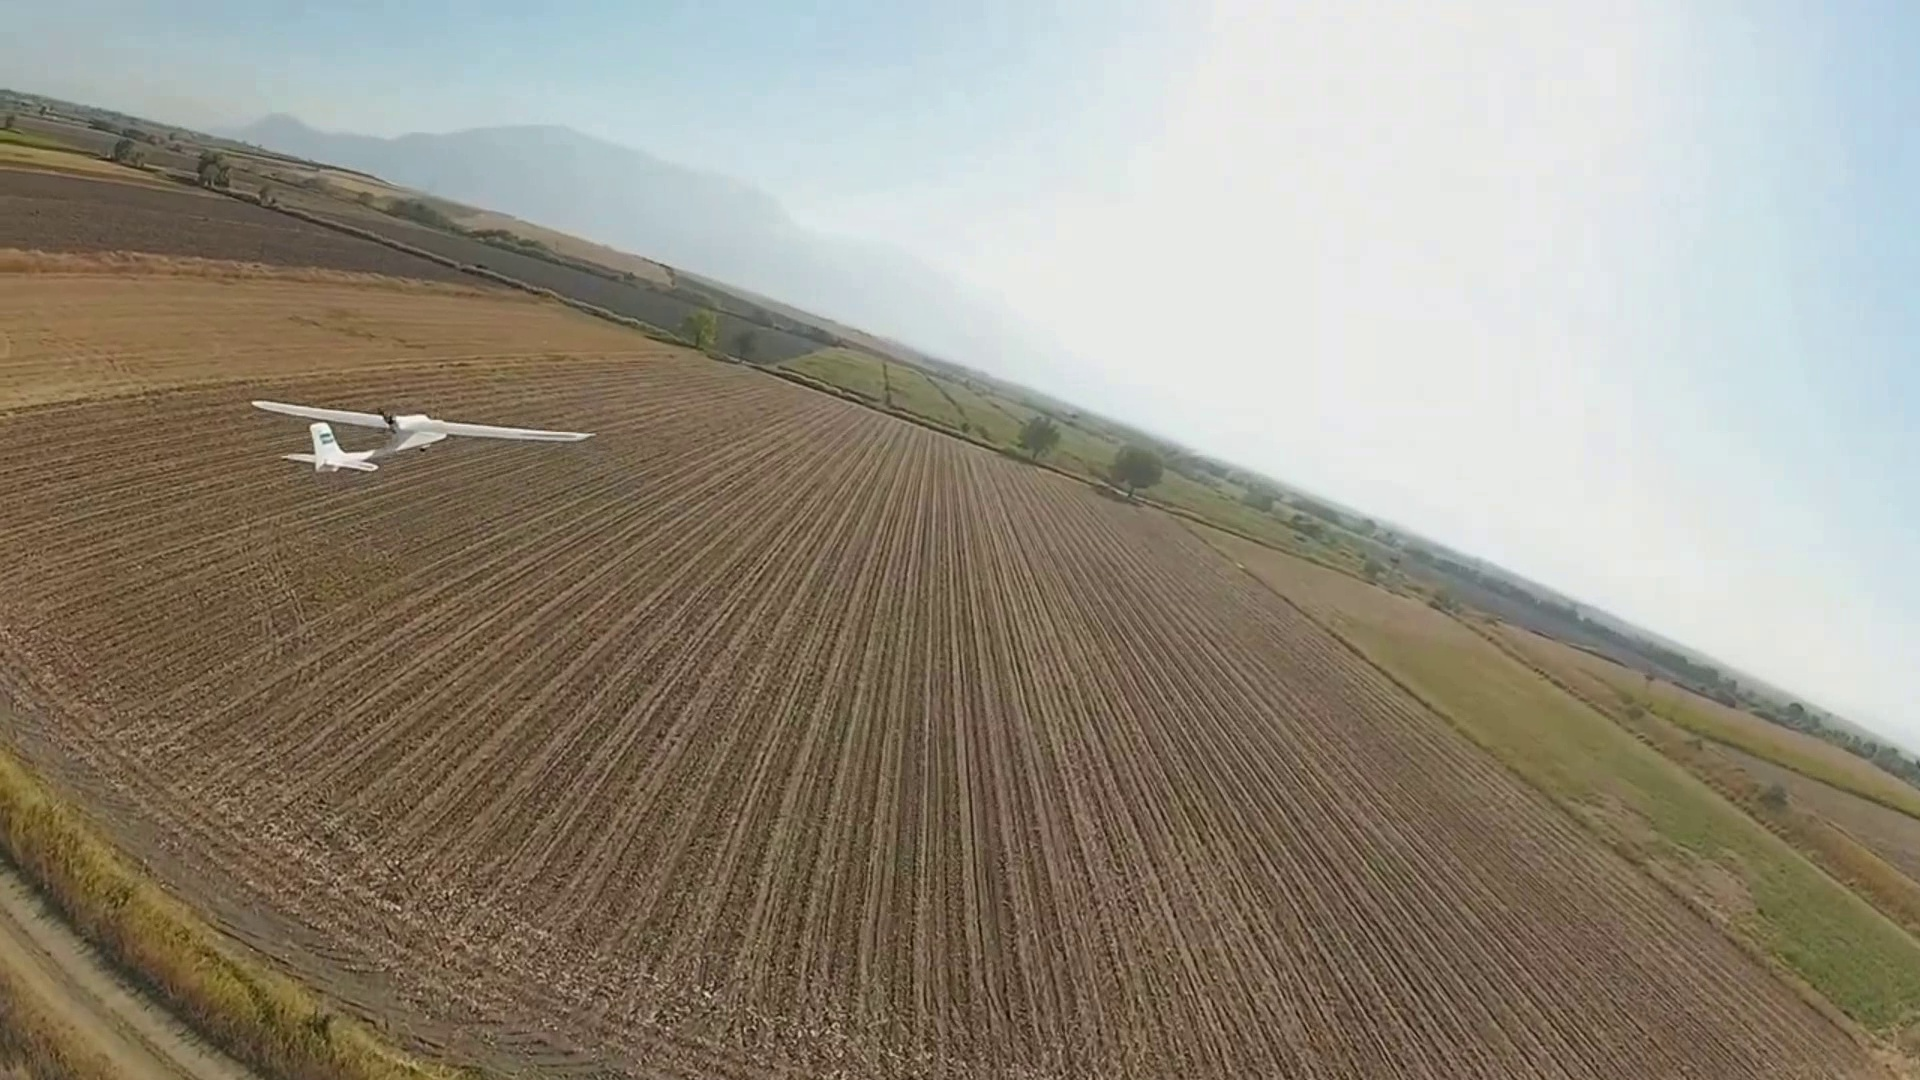airplane: (244, 398, 592, 470), (249, 394, 451, 474)
